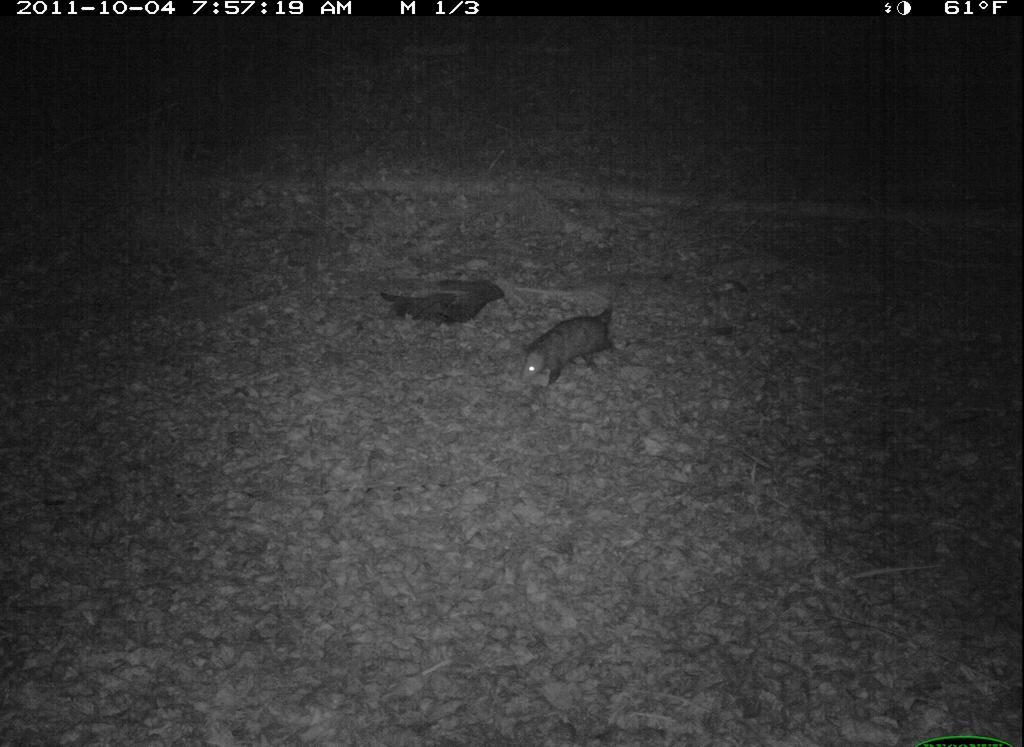opossum: (516, 295, 642, 399)
